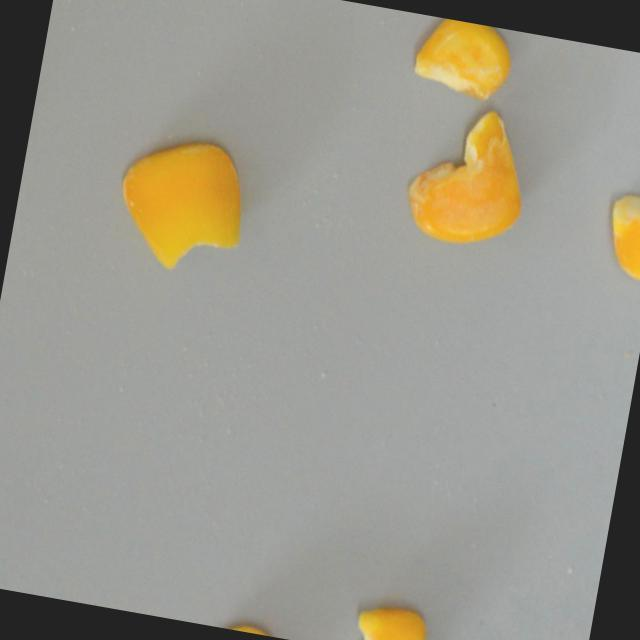dañado: (102, 123, 261, 287), (393, 92, 541, 258)
no_canjicado: (342, 595, 433, 640)
pelicula: (403, 12, 521, 106), (596, 183, 640, 283)
